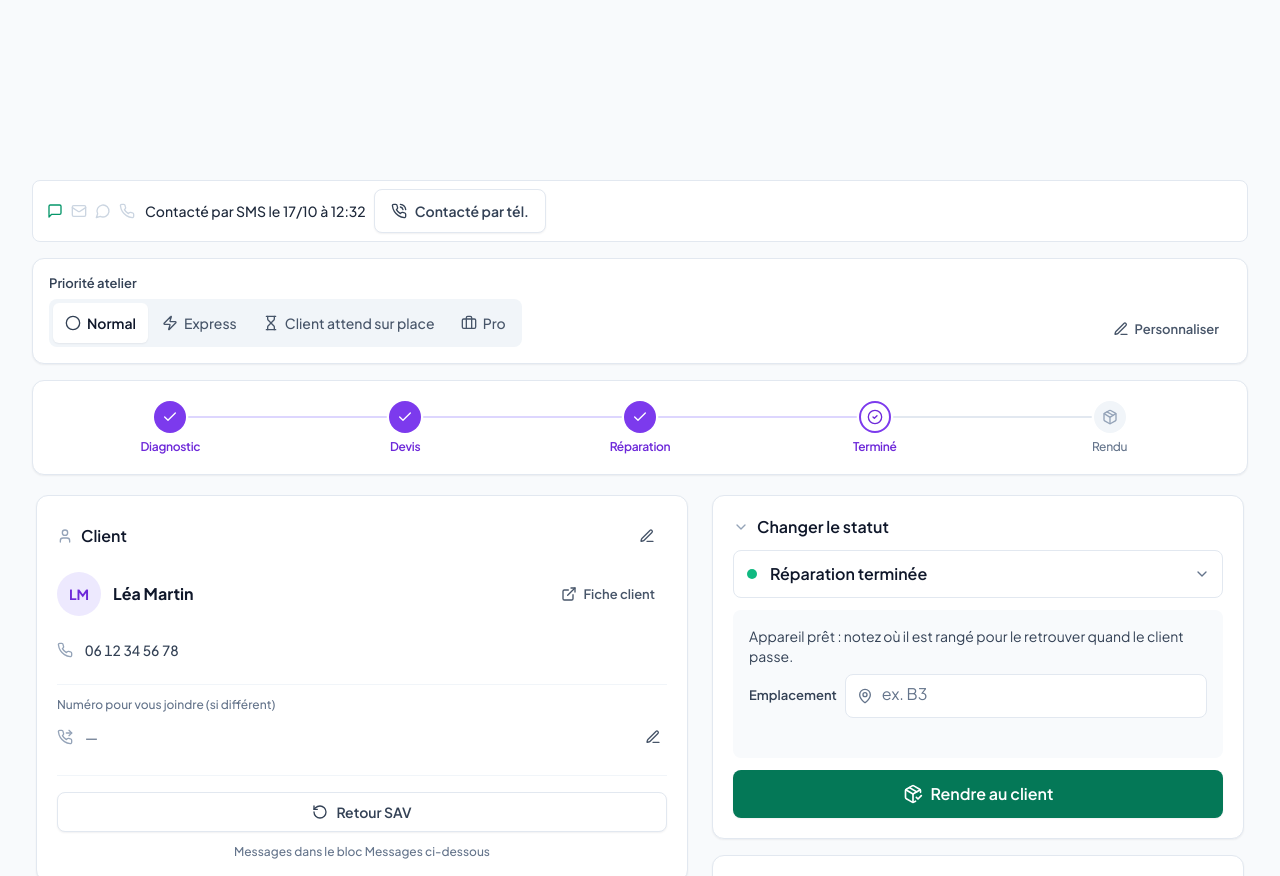
Test: Fiche ticket — rubrique « Client contacté » › « Contacté par tél. » → api.contacterClient(42), « Contacté par téléphone le … » et note « appel » relue dans les notes
The image size is (1280, 876).
Expected: the text "Appel téléphonique — client contacté" is not shown
Click the button "Contacté par tél.". click: (460, 211)
box: [374,189,546,233]
(page scrolled)
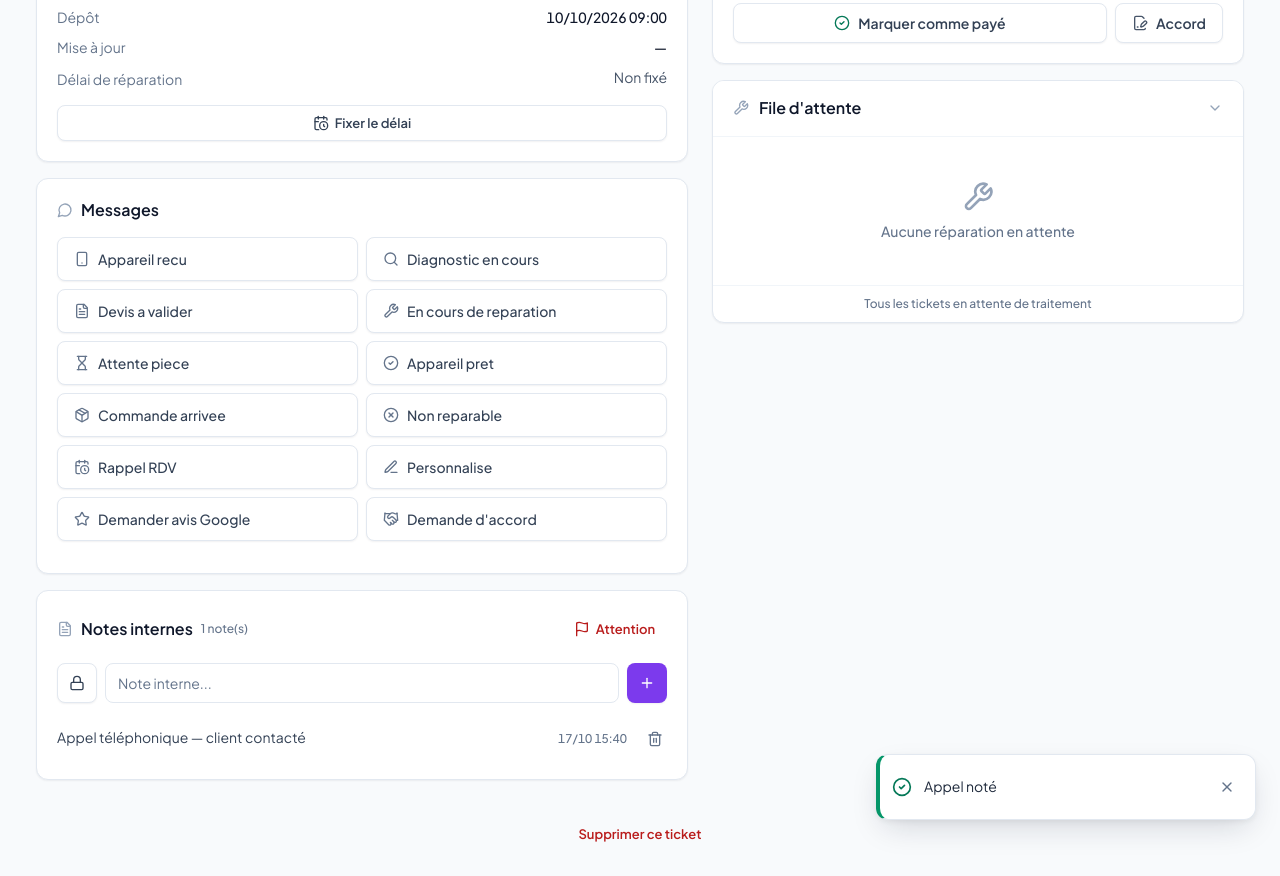
Expected: the text "Appel téléphonique — client contacté" is shown, [57,728,306,746]
